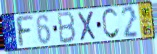2: (120, 5, 141, 41)
6: (36, 13, 53, 47)
B: (57, 11, 77, 45)
C: (101, 7, 121, 41)
F: (14, 15, 35, 49)
X: (76, 9, 98, 42)
